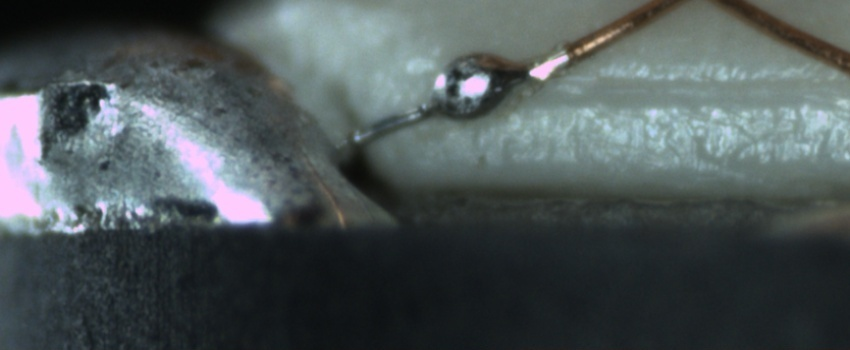DL: (548, 58, 849, 119)
TB: (423, 46, 525, 124)
TS: (351, 51, 570, 147)
TTCW: (350, 23, 610, 146)
